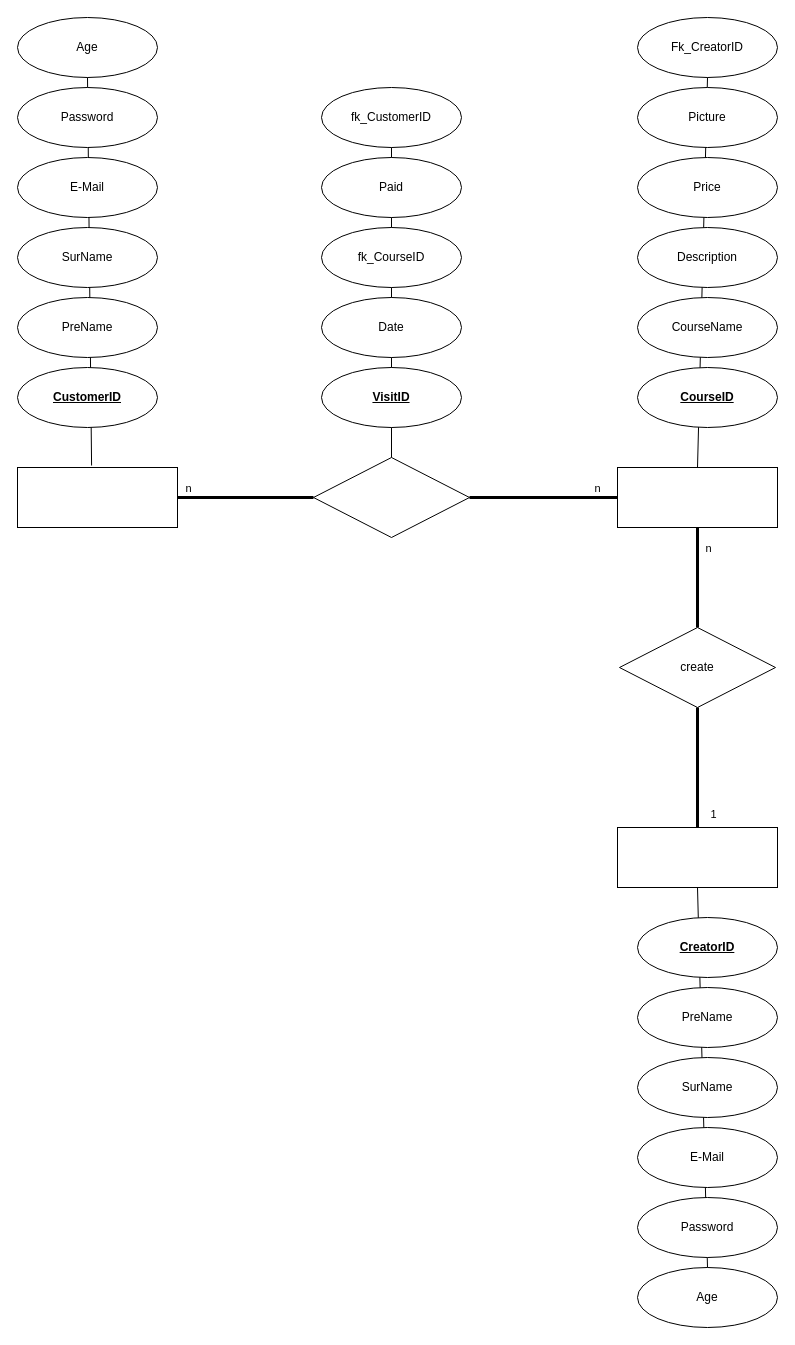
Some shapes in this 795 by 1345 pixel diagram are drawn without their labels. Here are the shapes that lost their labels. From the top down, the box of each, then its label:
(16, 466, 178, 528): Customer
(312, 456, 470, 538): visit
(616, 466, 778, 528): Course
(616, 826, 778, 888): Creator
